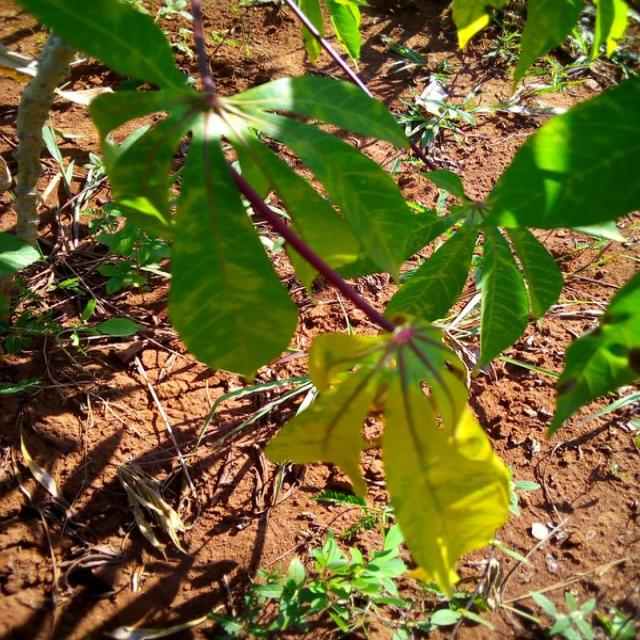cassava leaf: (263, 322, 514, 600), (166, 111, 298, 382)
